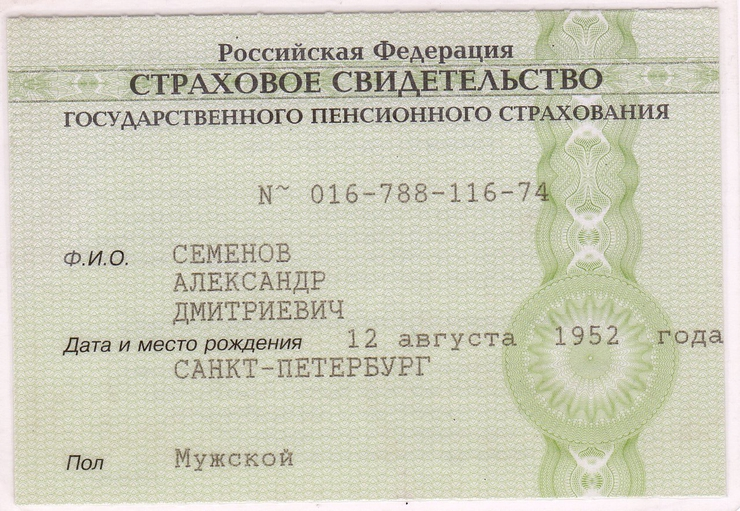text: (346, 322, 724, 351), (300, 175, 557, 210), (173, 353, 436, 382), (169, 296, 353, 324), (166, 268, 330, 296), (170, 442, 299, 471), (168, 239, 296, 264)
